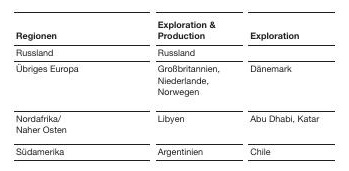table: (0, 0, 349, 171)
